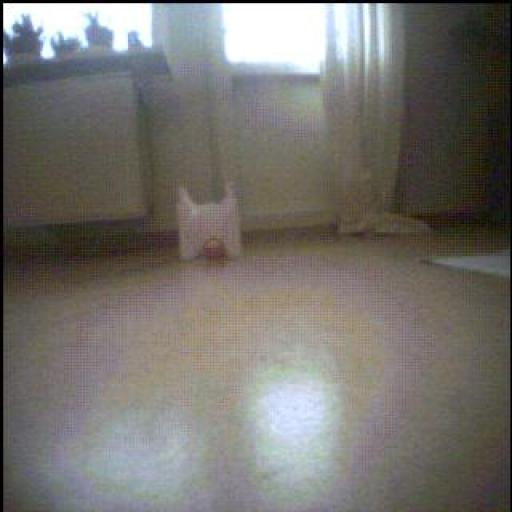Basket: (204, 240, 227, 261)
